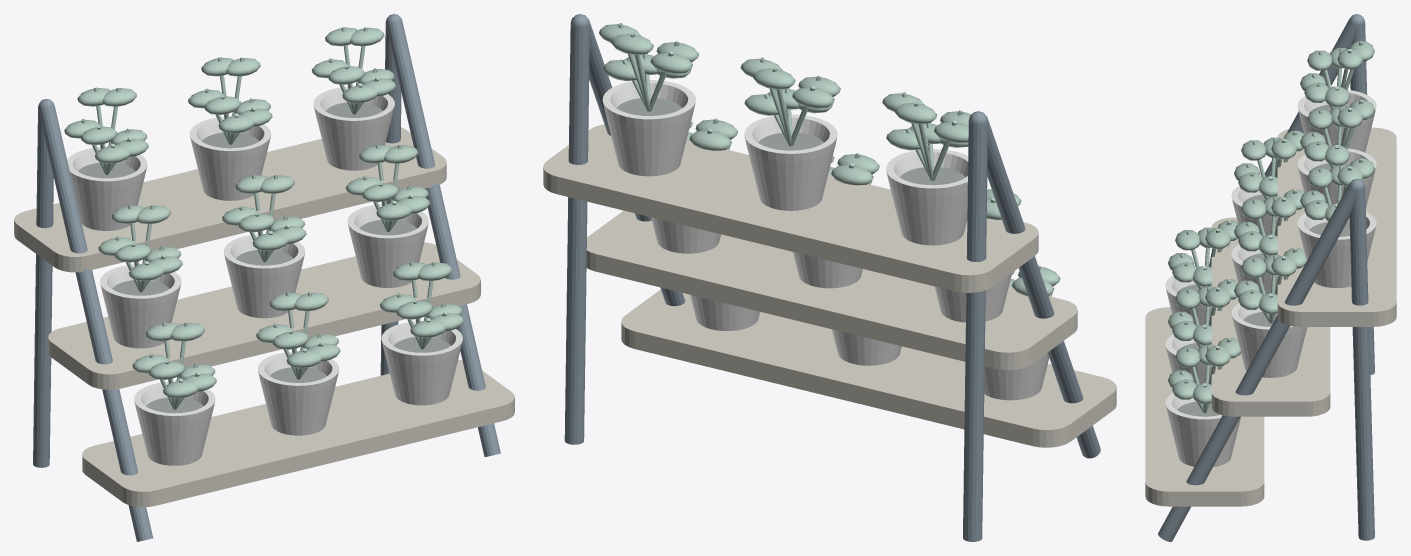
Rendered from restaurant_herb_rack.glb.
3 views of the same model, side by side, from view 1: azimuth 30°, elevation 25°; view 2: azimuth 150°, elevation 25°; view 3: azimuth 270°, elevation 25° (orthographic). The views are drawn at different scales.
Visible parts, largest first — view 1: decor_aaa493_matte, decor_d8dcd8_matte, decor_729986_matte, decor_455665_metal, decor_58625a_matte; view 2: decor_aaa493_matte, decor_d8dcd8_matte, decor_455665_metal, decor_729986_matte, decor_58625a_matte; view 3: decor_aaa493_matte, decor_729986_matte, decor_d8dcd8_matte, decor_455665_metal, decor_58625a_matte.
Boxes of the visible parts, bbox=[...] form: decor_aaa493_matte: bbox=[14, 127, 514, 507]; decor_d8dcd8_matte: bbox=[67, 86, 462, 465]; decor_729986_matte: bbox=[64, 27, 464, 409]; decor_455665_metal: bbox=[33, 14, 500, 541]; decor_58625a_matte: bbox=[78, 102, 450, 413]; decor_aaa493_matte: bbox=[543, 124, 1116, 447]; decor_d8dcd8_matte: bbox=[602, 80, 1049, 400]; decor_455665_metal: bbox=[564, 14, 1100, 541]; decor_729986_matte: bbox=[599, 23, 1060, 296]; decor_58625a_matte: bbox=[616, 97, 965, 185]; decor_aaa493_matte: bbox=[1145, 127, 1396, 506]; decor_729986_matte: bbox=[1168, 41, 1374, 413]; decor_d8dcd8_matte: bbox=[1165, 90, 1376, 466]; decor_455665_metal: bbox=[1158, 14, 1374, 541]; decor_58625a_matte: bbox=[1177, 104, 1350, 416].
Bounding box in the file's own units: 1.32 × 1.21 × 0.76.
